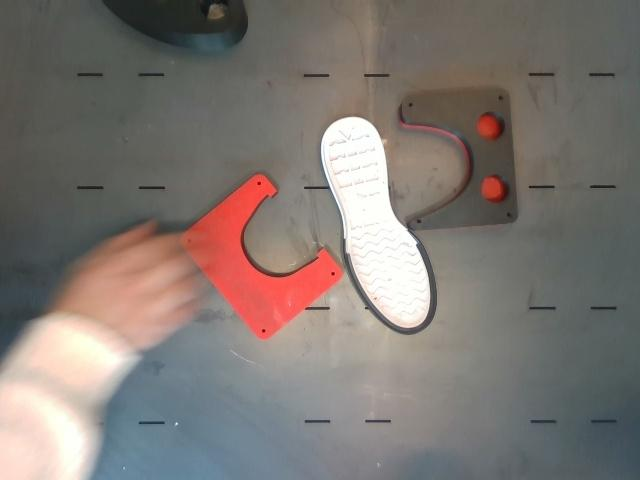shoes: (322, 117, 436, 334)
